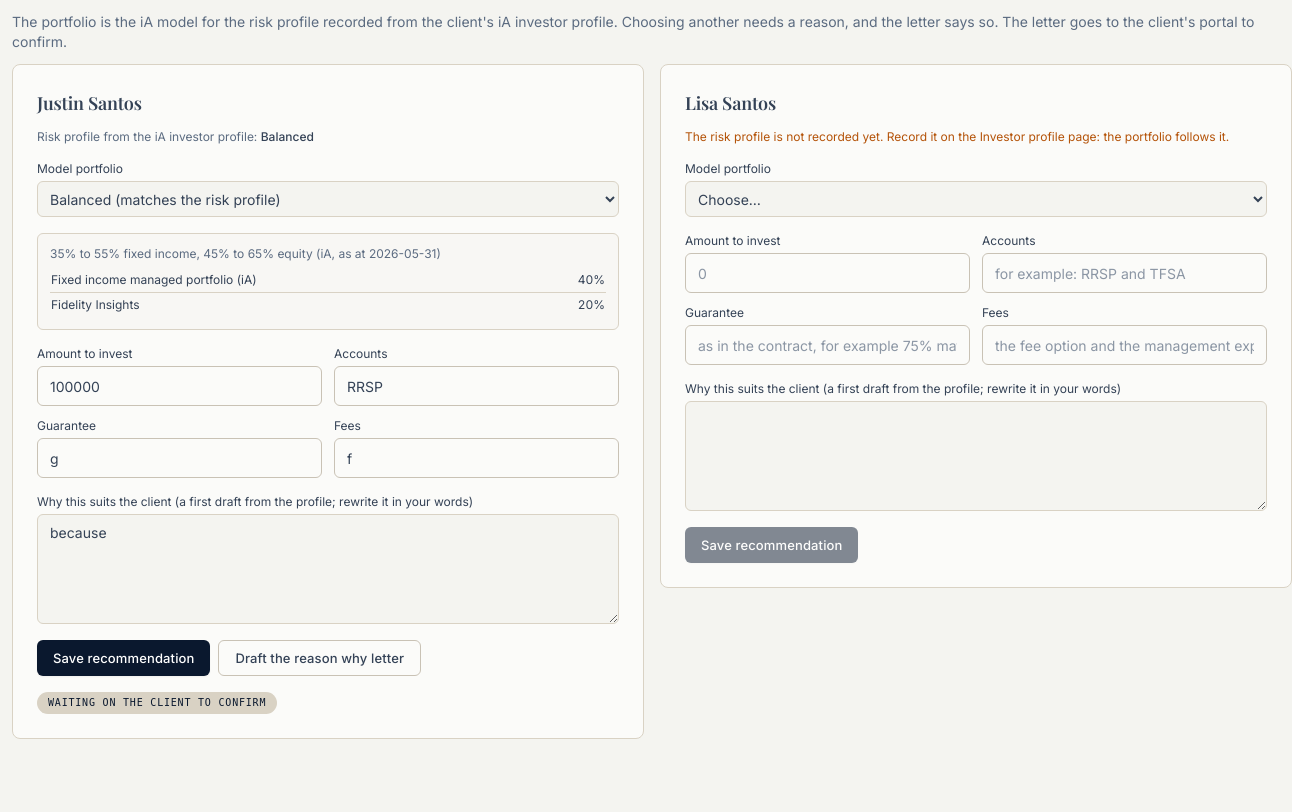
Test: the recommendation page › asks for a reason when another portfolio is chosen, and starts new reasons from the profile
The width and height of the screenshot is (1292, 812).
Expected: the element with test id "rec-a" is shown, left=12, top=64, right=644, bottom=739
Expected: the element with test id "rec-a" does not show "Why not the Balanced portfolio"
Select "Growth" in the dropdown named "Model portfolio" at [328, 199], box left=37, top=181, right=619, bottom=217
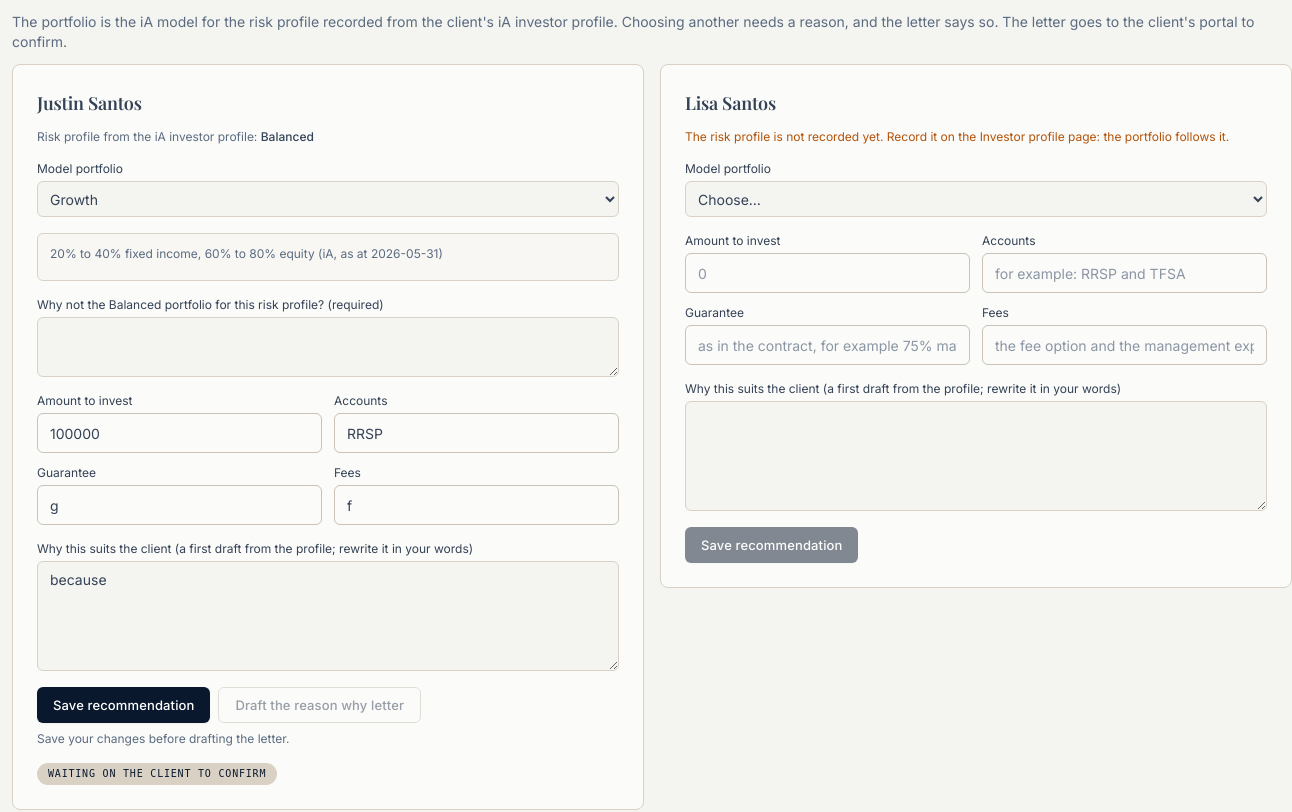
Expected: the text box named "Why this suits the client" is empty, left=685, top=401, right=1267, bottom=511
Now the element with test id "rec-a" shows "Why not the Balanced portfolio", box left=12, top=64, right=644, bottom=810
